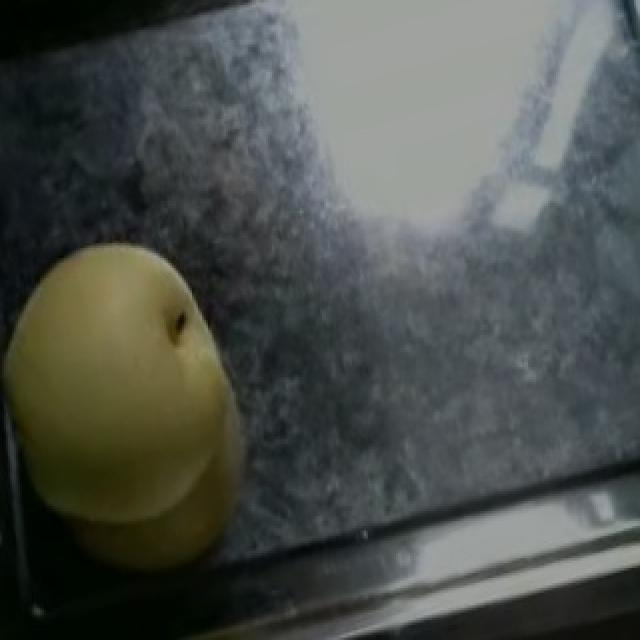Fruit: (0, 220, 296, 556)
